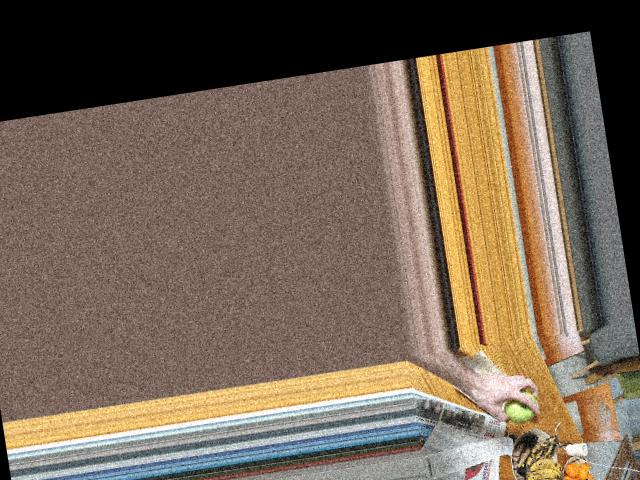apple: (500, 389, 541, 424)
